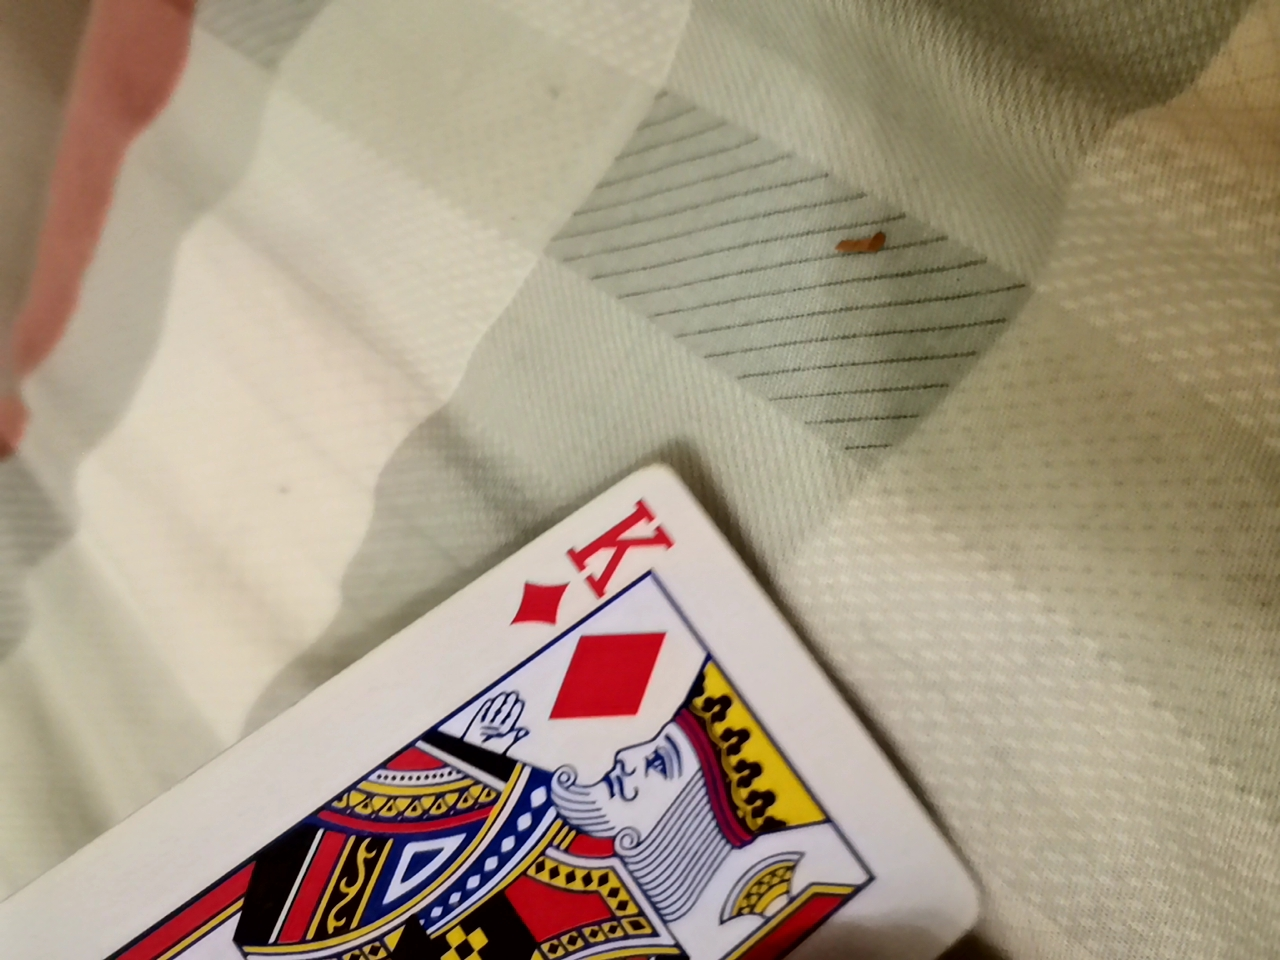fk k: (4, 465, 1012, 959)
